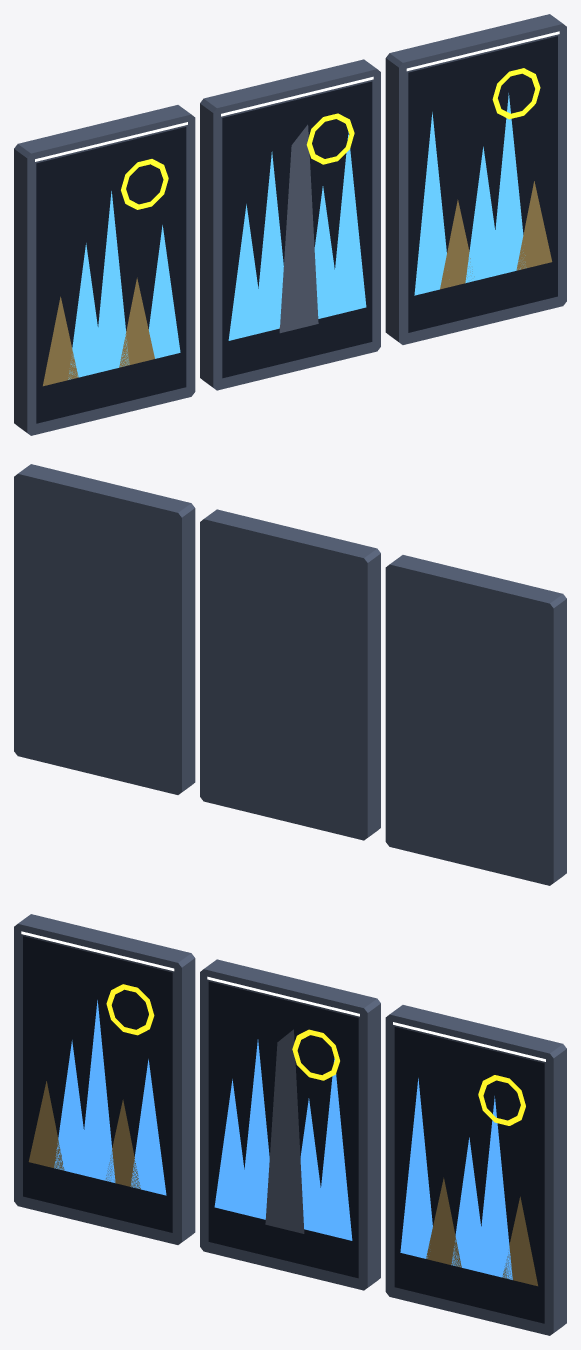
The model's file is res_wall_art_triptych.glb.
The picture shows the model from 3 angles, top to bottom: view 1: azimuth 30°, elevation 25°; view 2: azimuth 150°, elevation 25°; view 3: azimuth 330°, elevation 25°; orthographic projection.
Parts seen in each view (by area): view 1: canvas, black_frame, abstract_conifer.001, abstract_conifer, corporate_tower, moon, backlit_upper_edge; view 2: black_frame; view 3: canvas, black_frame, abstract_conifer.001, abstract_conifer, corporate_tower, moon, backlit_upper_edge.
Boxes of the visible parts, x1=… form: canvas: x1=36, y1=36, x2=557, y2=423; black_frame: x1=14, y1=14, x2=566, y2=435; abstract_conifer.001: x1=68, y1=93, x2=526, y2=379; abstract_conifer: x1=43, y1=181, x2=552, y2=386; corporate_tower: x1=279, y1=124, x2=318, y2=333; moon: x1=121, y1=68, x2=540, y2=209; backlit_upper_edge: x1=35, y1=31, x2=559, y2=161; black_frame: x1=14, y1=464, x2=566, y2=885; canvas: x1=23, y1=936, x2=544, y2=1323; black_frame: x1=14, y1=914, x2=566, y2=1335; abstract_conifer.001: x1=54, y1=1000, x2=512, y2=1279; abstract_conifer: x1=28, y1=1081, x2=537, y2=1286; corporate_tower: x1=265, y1=1029, x2=304, y2=1233; moon: x1=106, y1=984, x2=525, y2=1125; backlit_upper_edge: x1=21, y1=931, x2=545, y2=1061.
Bounding box in the file's own units: 3.6 × 1.8 × 0.16.
